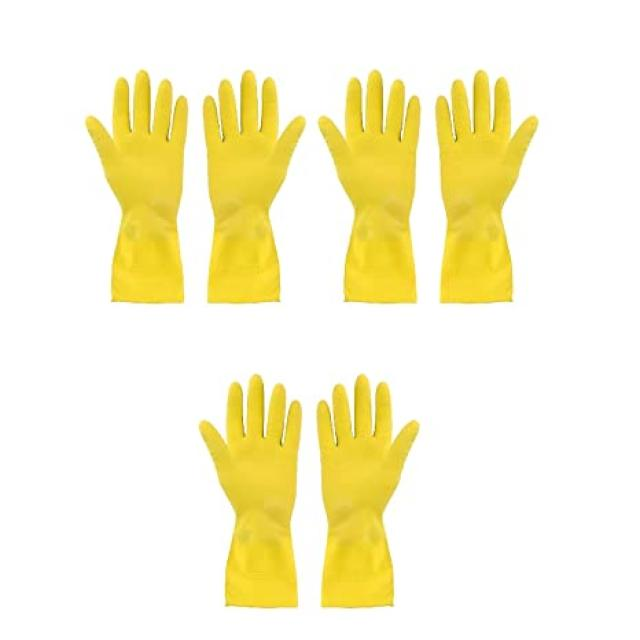gloves: (82, 65, 193, 310), (432, 65, 542, 308), (198, 67, 308, 309), (196, 374, 306, 614), (316, 65, 425, 306), (314, 371, 422, 614)
